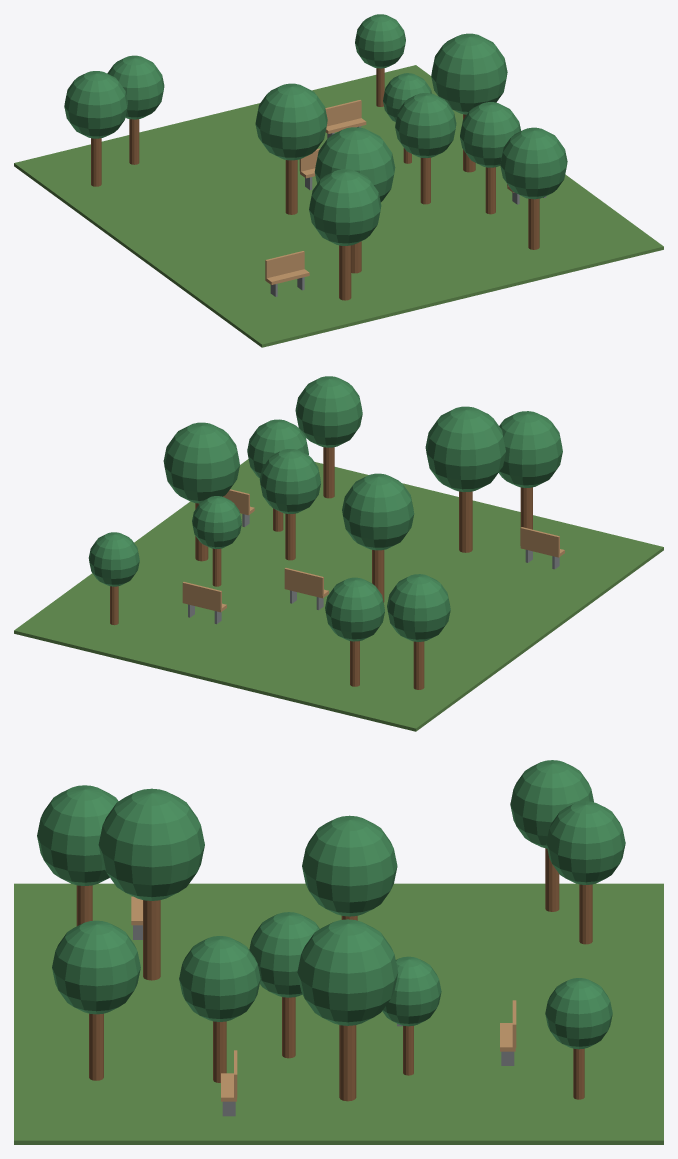
Rendered from Park_010.glb.
3 renders of one model, top to bottom at view 1: azimuth 30°, elevation 25°; view 2: azimuth 150°, elevation 25°; view 3: azimuth 270°, elevation 25°, orthographic. The views are drawn at different scales.
Visible parts, largest first — view 1: Park_010; view 2: Park_010; view 3: Park_010.
Part boxes in pixels (box(x1,y1,x2,y2)): Park_010: box(14, 14, 663, 347); Park_010: box(14, 376, 663, 731); Park_010: box(14, 760, 663, 1144).
Bounding box in the file's own units: 21.09 × 7.17 × 22.53.
